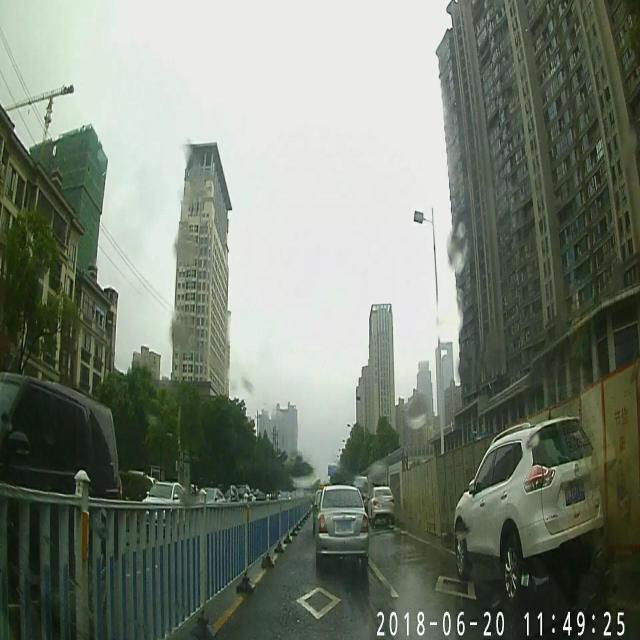car: (0, 370, 120, 607), (453, 412, 602, 602), (314, 484, 368, 566), (142, 482, 186, 534), (368, 486, 396, 523)
